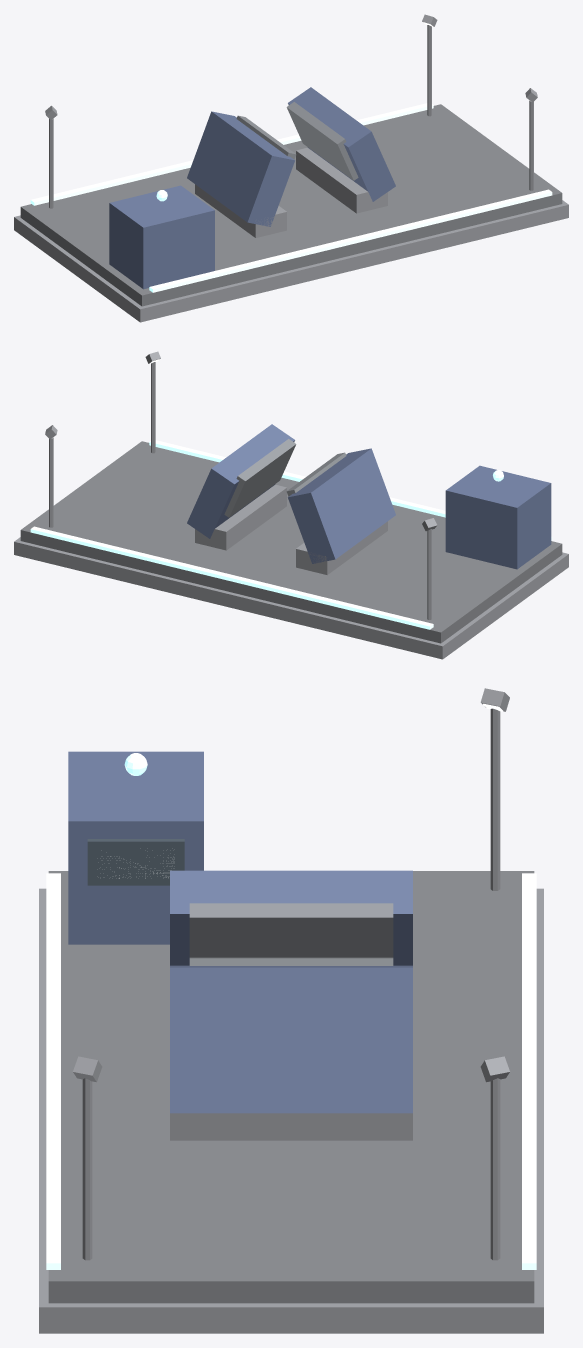
File: inspection_platform.glb
3 renders of one model, top to bottom at view 1: azimuth 30°, elevation 25°; view 2: azimuth 150°, elevation 25°; view 3: azimuth 270°, elevation 25°, orthographic. The views are drawn at different scales.
Parts seen in each view (by area): view 1: deck, deck_frame, cab_body, jaw1, jaw0, strip_s, jawbase0, jawpad0, strip_p, jawbase1, jawpad1, lpost0 (+2 smaller); view 2: deck, deck_frame, cab_body, jaw1, jaw0, strip_p, jawbase0, jawpad0, jawbase1, strip_s, jawpad1, lpost1 (+2 smaller); view 3: deck, jaw0, deck_frame, cab_body, jawpad1, jaw1, jawbase0, strip_p, strip_s, cab_glass, lpost2, lpost0 (+2 smaller).
Part boxes in pixels (x1,y1,x2,y2): deck: (20,104,562,306); deck_frame: (14,200,568,322); cab_body: (109,185,214,289); jaw1: (187,111,294,226); jaw0: (288,87,395,201); strip_s: (149,189,552,292); jawbase0: (296,147,387,213); jawpad0: (286,102,358,180); strip_p: (30,103,433,205); jawbase1: (195,184,286,237); jawpad1: (236,115,296,159); lpost0: (427,25,431,116); deck: (20,441,562,643); deck_frame: (14,537,568,659); cab_body: (445,465,551,569); jaw1: (288,448,395,563); jaw0: (187,424,294,538); strip_p: (30,526,433,629); jawbase0: (195,484,286,550); jawpad0: (224,439,296,517); jawbase1: (296,521,387,574); strip_s: (149,440,552,540); jawpad1: (286,452,346,496); lpost1: (151,362,155,453); deck: (48,871,534,1303); jaw0: (170,965,412,1113); deck_frame: (39,888,543,1333); cab_body: (68,751,203,944); jawpad1: (189,903,393,957); jaw1: (170,870,412,965); jawbase0: (170,1113,412,1140); strip_p: (522,873,536,1269); strip_s: (46,873,60,1269); cab_glass: (87,839,184,885); lpost2: (490,708,500,890); lpost0: (490,1078,500,1260).
Size of the model in its own units: 20.4 by 5.69 by 10.4.
